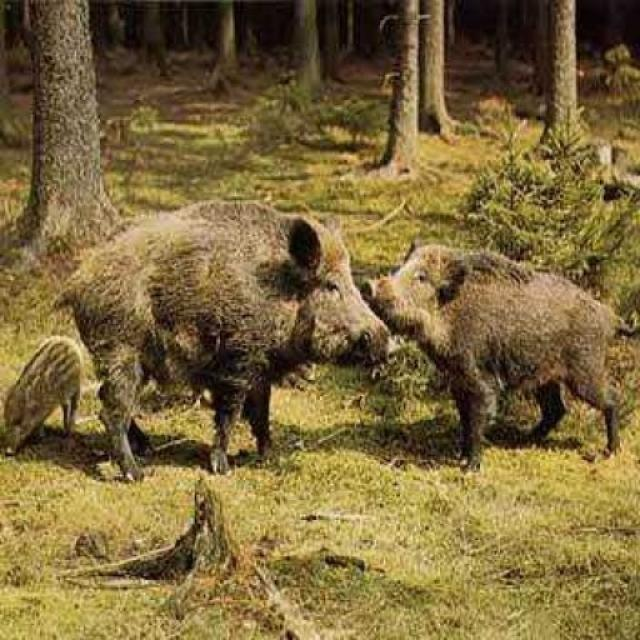pig: (69, 175, 418, 475), (370, 243, 640, 498)
